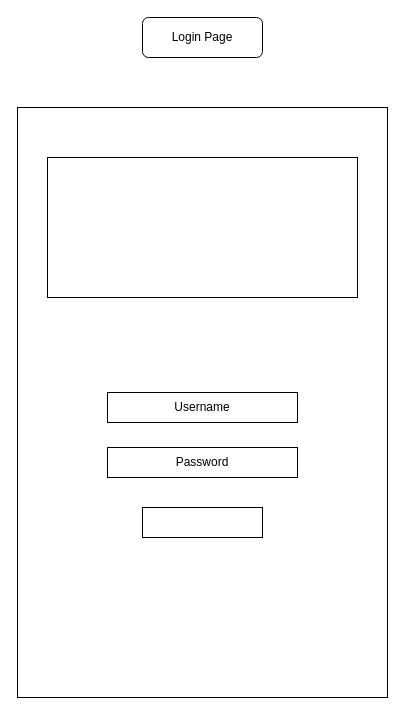
Image size: 405x715. Some labels were removed from this diagram. The shapes that lost their labels are listed below. From the top down, each one's centre as x and y in pixels, then its label:
At point 202,227: "Logo".
At point 202,522: "Login Button".
